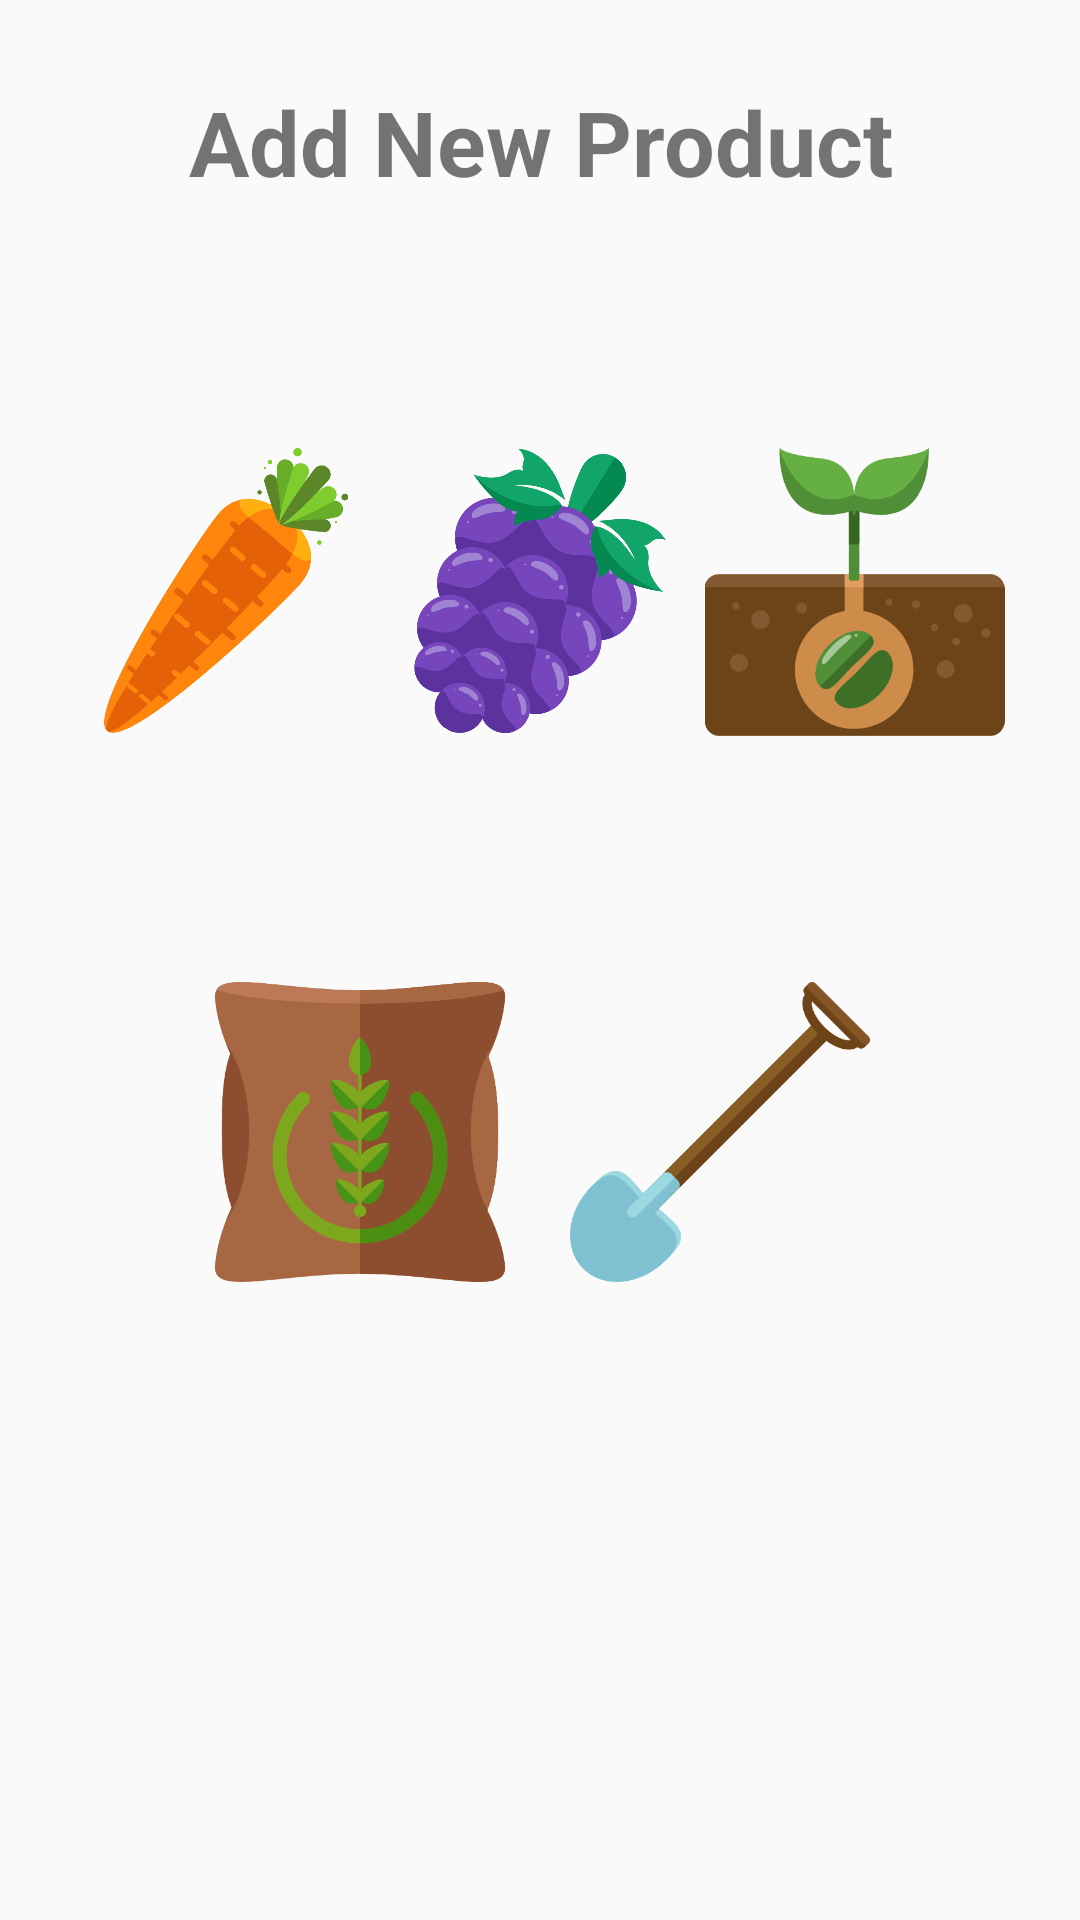

Named icons in this screenshot (1080w x 1920h) and their bounding boxes, (x1, y1, x2, y2):
equipments: (570, 982, 870, 1282)
fertilizer: (215, 982, 505, 1282)
fruits: (414, 449, 666, 733)
seeds: (705, 448, 1005, 736)
vegitables: (104, 448, 348, 733)
